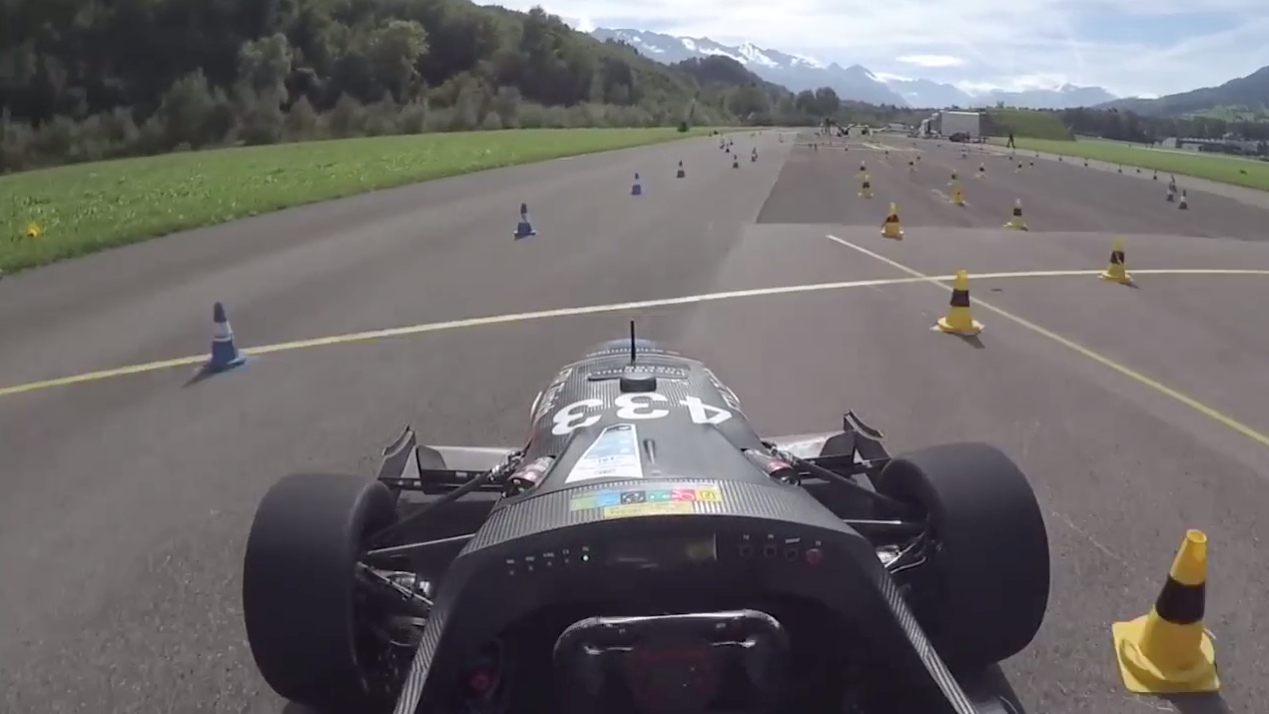lcone: (191, 295, 252, 374), (504, 198, 545, 242)
rcone: (1095, 521, 1237, 699), (930, 266, 990, 345), (1098, 234, 1138, 288), (873, 198, 908, 241), (1002, 196, 1033, 233)
